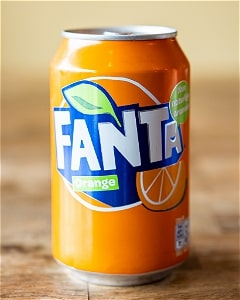metal: (50, 24, 191, 288)
